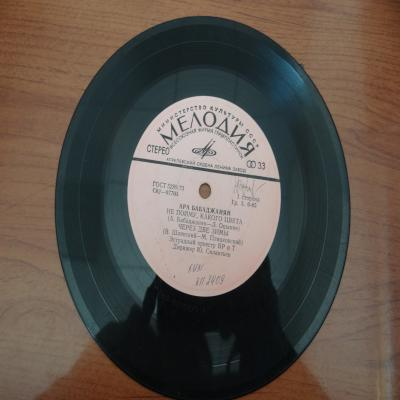other: (55, 17, 351, 400)
